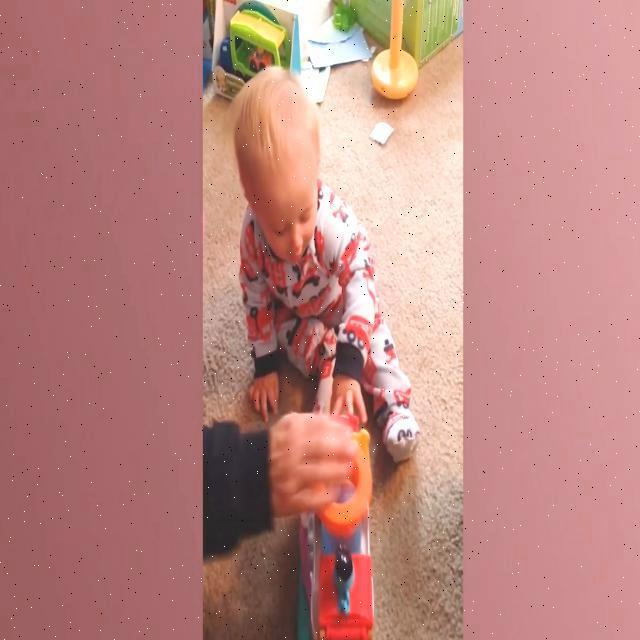child: (233, 64, 419, 465)
